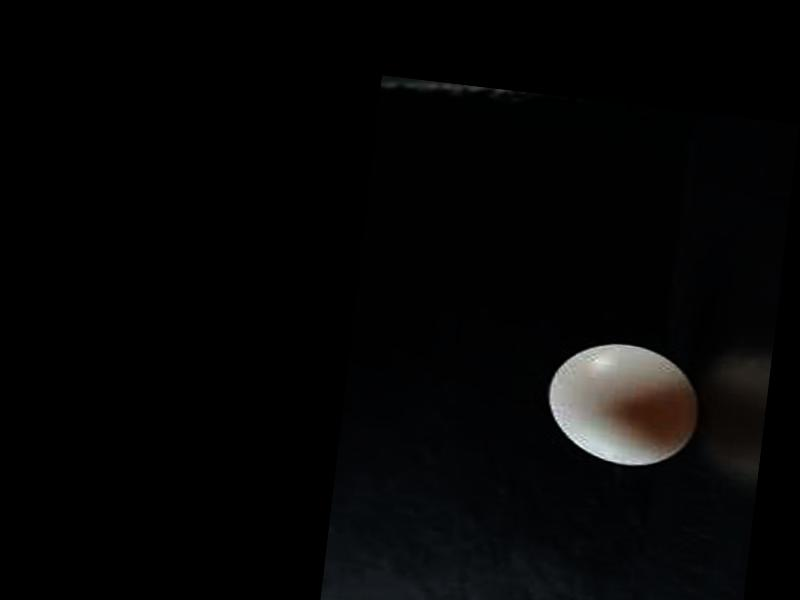Eggs: (537, 336, 705, 473)
